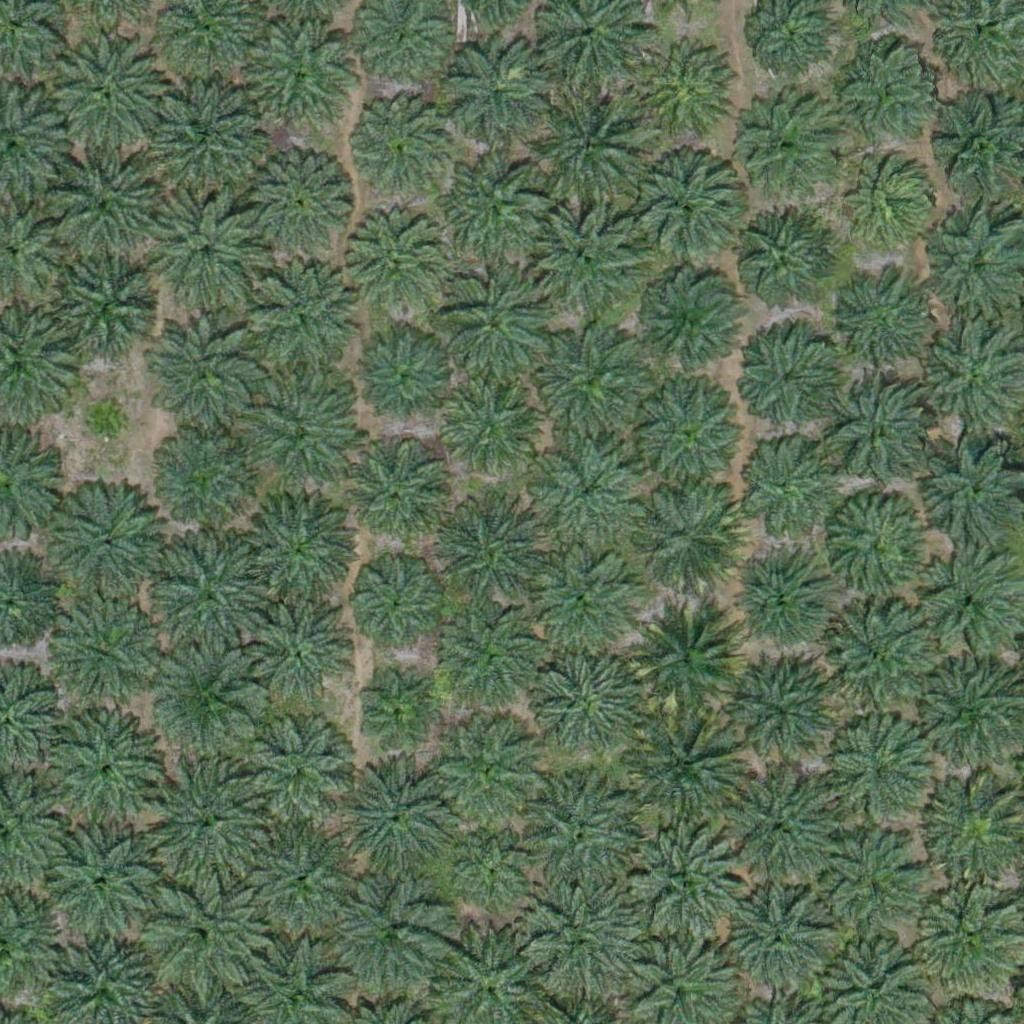Kelapa_Sawit: (42, 30, 167, 156), (149, 537, 274, 663), (42, 147, 167, 273), (142, 758, 267, 884), (138, 873, 263, 999), (520, 776, 645, 902), (525, 651, 638, 765), (436, 494, 549, 608), (243, 824, 356, 938), (240, 717, 353, 831), (443, 31, 556, 144), (624, 33, 737, 146), (435, 151, 548, 264), (727, 93, 840, 206), (821, 373, 934, 486), (822, 602, 935, 715), (438, 266, 551, 379), (151, 645, 264, 758), (45, 599, 158, 712), (48, 481, 161, 594), (50, 259, 163, 372), (526, 881, 639, 994), (628, 834, 741, 947), (148, 94, 260, 208), (239, 150, 351, 264), (243, 256, 355, 370), (244, 374, 356, 488), (152, 195, 264, 309), (150, 320, 262, 434), (335, 765, 447, 879), (337, 879, 449, 993), (243, 23, 355, 136), (533, 90, 645, 203), (626, 149, 738, 262), (727, 661, 839, 774), (633, 380, 745, 493), (629, 480, 741, 593), (634, 605, 746, 718), (530, 435, 642, 548), (535, 333, 647, 446), (534, 199, 646, 312), (241, 489, 353, 602), (42, 827, 154, 940), (47, 717, 159, 830), (629, 710, 741, 823), (724, 770, 836, 883), (720, 879, 832, 992), (352, 93, 452, 194), (838, 38, 938, 139), (828, 493, 928, 594), (733, 552, 833, 653), (736, 438, 836, 539), (740, 332, 840, 433), (738, 211, 838, 312), (643, 272, 743, 373), (343, 217, 443, 318), (250, 603, 350, 704), (155, 427, 255, 528), (437, 727, 537, 828), (818, 826, 918, 927), (828, 717, 928, 818), (920, 892, 1020, 993), (534, 546, 634, 646), (440, 384, 540, 484), (442, 606, 542, 706), (353, 562, 441, 650), (355, 457, 443, 545), (842, 160, 929, 248), (841, 273, 928, 361), (363, 337, 450, 425), (356, 677, 431, 753), (458, 836, 533, 912), (81, 398, 131, 448)
